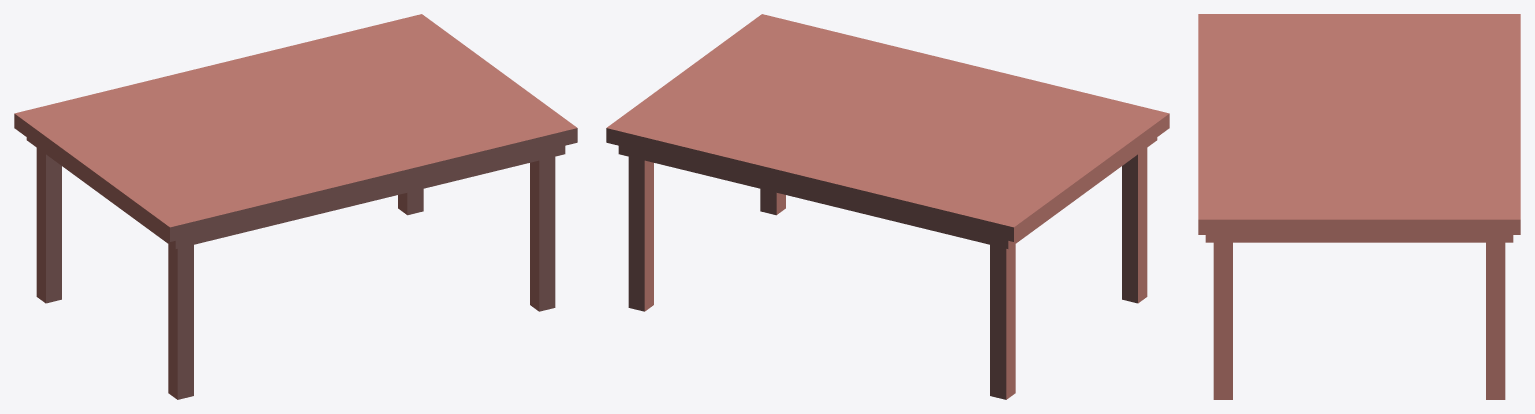
File: Table.fbx
3 views of the same model, side by side, from view 1: azimuth 30°, elevation 25°; view 2: azimuth 150°, elevation 25°; view 3: azimuth 270°, elevation 25° (orthographic). The views are drawn at different scales.
Parts seen in each view (by area): view 1: Table; view 2: Table; view 3: Table.
Part boxes in pixels (box(x1,y1,x2,y2)): Table: box(14, 14, 577, 399); Table: box(606, 14, 1169, 399); Table: box(1198, 14, 1520, 399).
Bounding box in the file's own units: 393 × 167 × 260.
